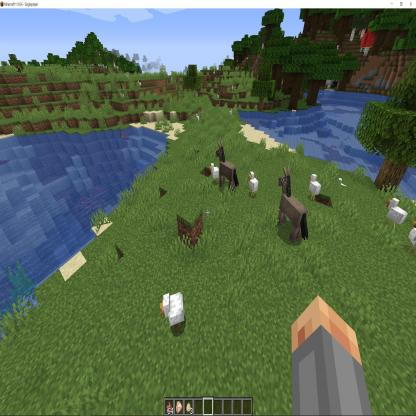minecraft-pigs: (196, 185, 209, 210)
